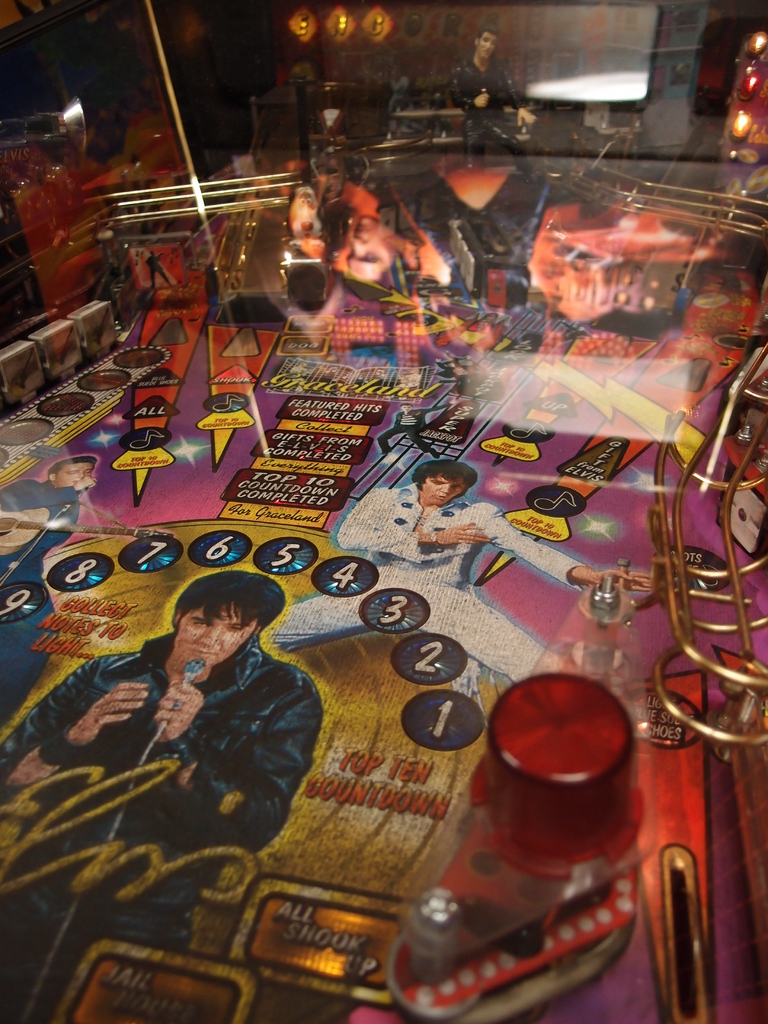Person: (0, 564, 325, 1024), (258, 453, 661, 688), (0, 449, 97, 725)
